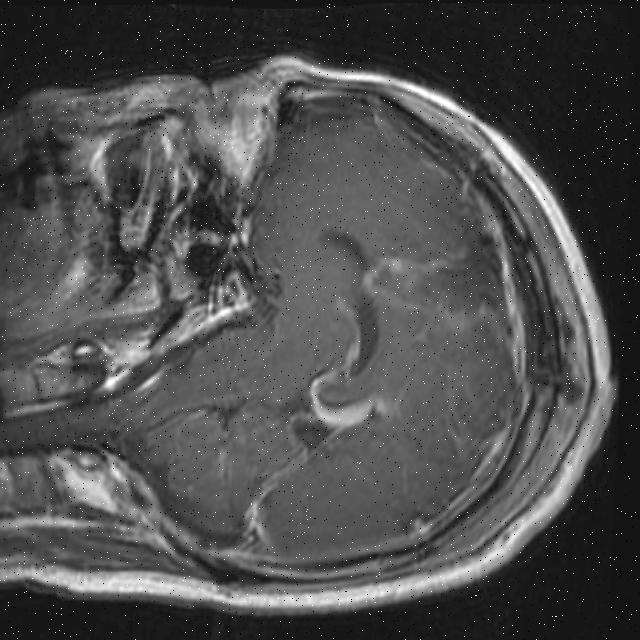Glioma: (353, 239, 524, 365)
